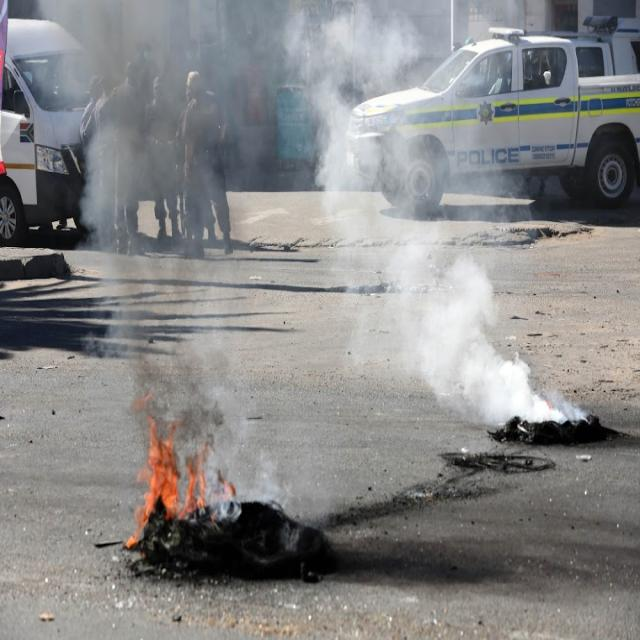smoke: (345, 12, 486, 347), (112, 5, 232, 380), (459, 361, 543, 416)
